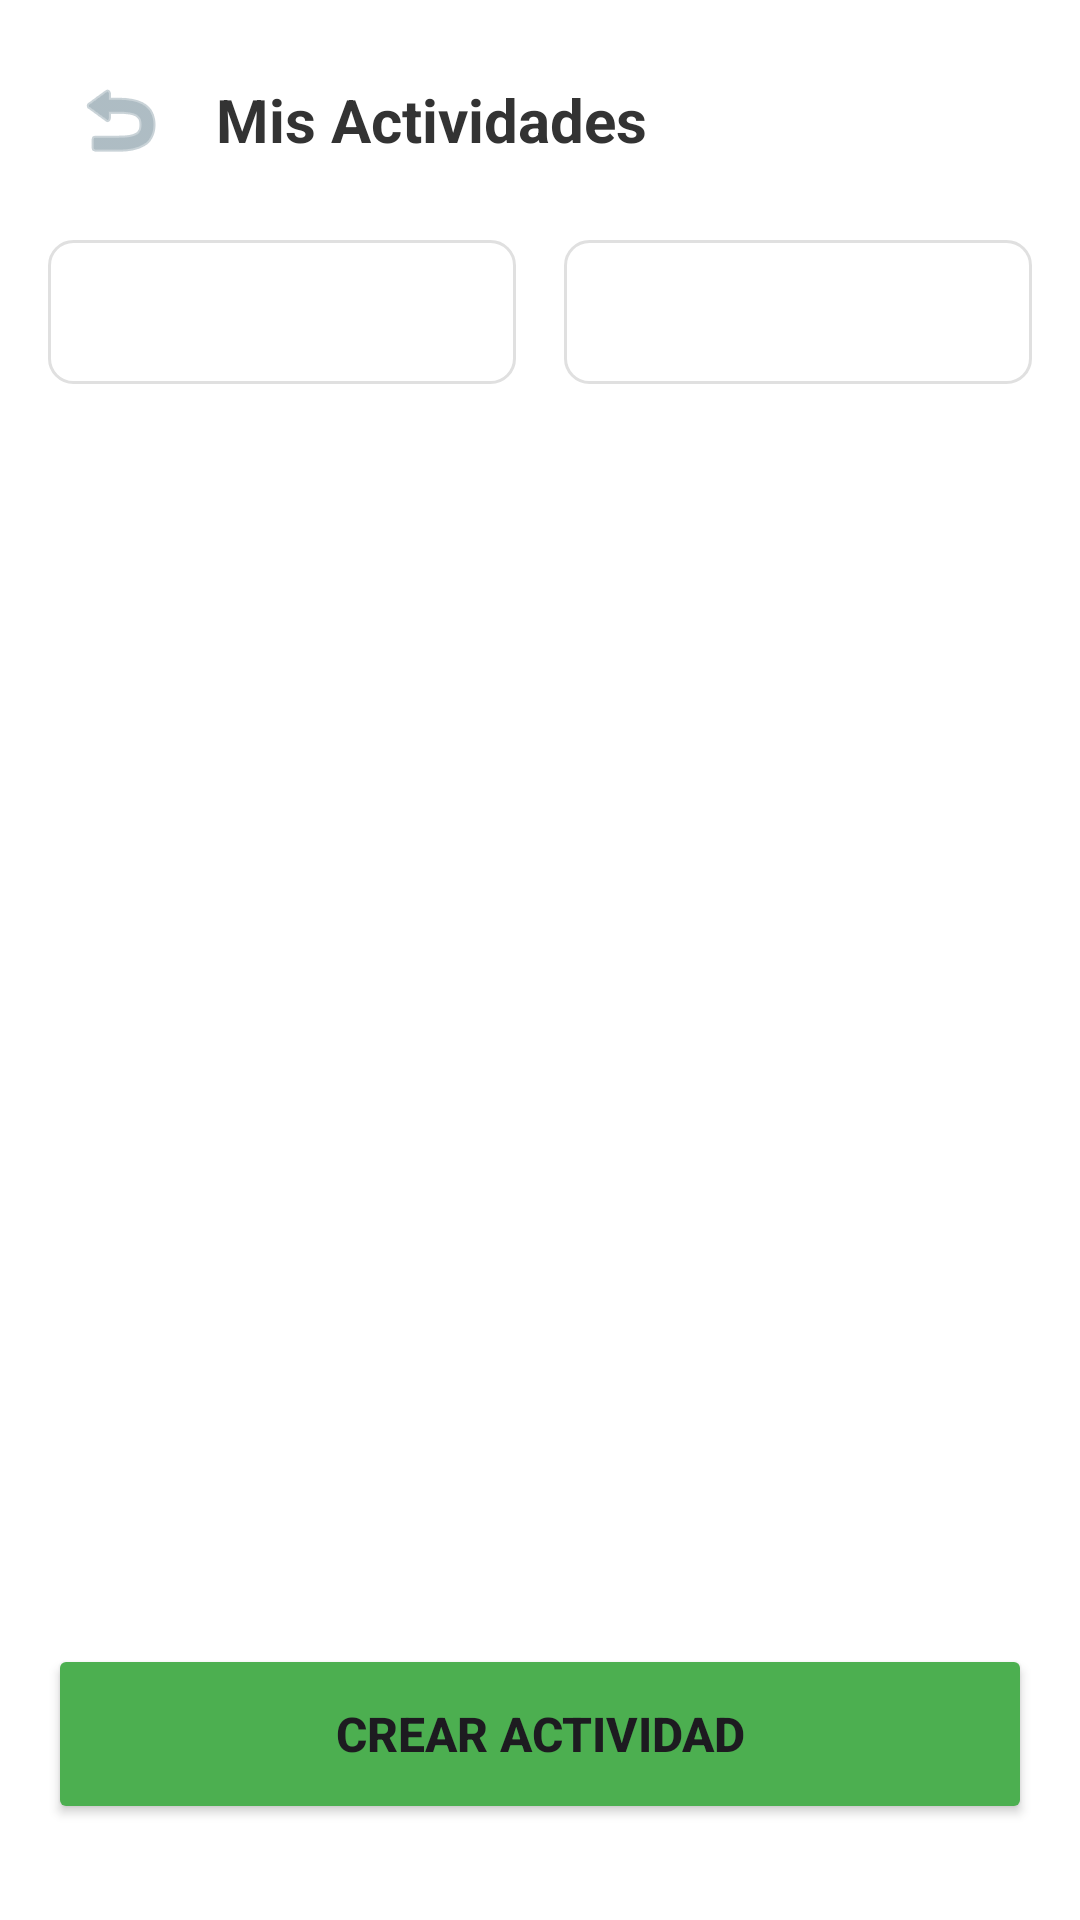

Screen size 1080px x 1920px. Icon name, then its center in pixels as (x=x, y=y):
Volver: (x=121, y=121)
